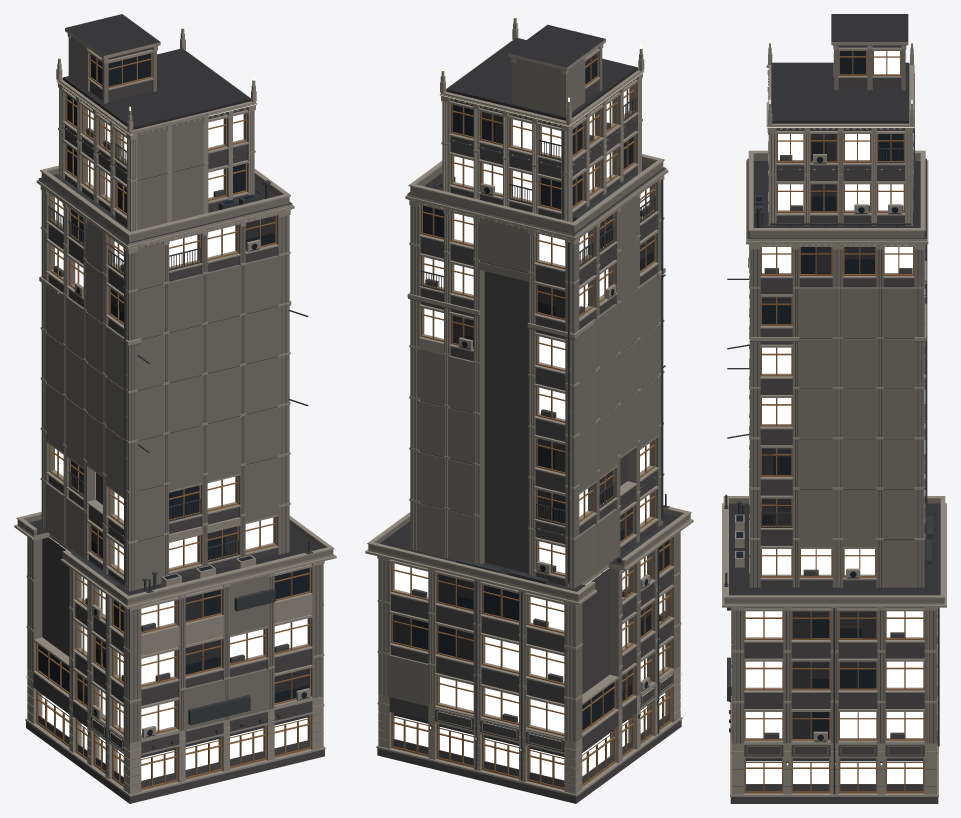
File: landmark219.glb
3 renders of one model, left to right at view 1: azimuth 30°, elevation 25°; view 2: azimuth 150°, elevation 25°; view 3: azimuth 270°, elevation 25°, orthographic.
Parts seen in each view (by area): view 1: l219-wall, l219-trim, l219-wall2, l219-roof, l219-frame, l219-steel, l219-dark, l219-room2, l219-shop, l219-room0, l219-room1; view 2: l219-wall, l219-wall2, l219-trim, l219-frame, l219-roof, l219-steel, l219-dark, l219-room0, l219-room2, l219-shop, l219-room1; view 3: l219-wall, l219-trim, l219-roof, l219-wall2, l219-frame, l219-room1, l219-dark, l219-room2, l219-steel, l219-shop, l219-room0.
Part boxes in pixels (x1,y1,x2,y2): l219-wall: [17, 36, 333, 743]; l219-trim: [14, 28, 336, 796]; l219-wall2: [26, 46, 324, 803]; l219-roof: [29, 14, 321, 695]; l219-frame: [36, 52, 310, 790]; l219-steel: [38, 127, 312, 777]; l219-dark: [38, 53, 309, 737]; l219-room2: [75, 119, 273, 715]; l219-shop: [42, 695, 307, 780]; l219-room0: [55, 122, 263, 734]; l219-room1: [88, 110, 307, 676]; l219-wall: [368, 47, 690, 742]; l219-wall2: [377, 48, 681, 803]; l219-trim: [365, 17, 693, 796]; l219-frame: [391, 52, 671, 789]; l219-roof: [379, 24, 678, 691]; l219-steel: [393, 97, 669, 780]; l219-dark: [412, 61, 669, 730]; l219-room0: [394, 101, 665, 732]; l219-room2: [424, 88, 646, 680]; l219-shop: [394, 693, 665, 780]; l219-room1: [454, 114, 665, 721]; l219-wall: [724, 49, 944, 743]; l219-trim: [722, 42, 946, 796]; l219-roof: [729, 14, 940, 738]; l219-wall2: [730, 45, 938, 803]; l219-frame: [735, 50, 933, 793]; l219-room1: [745, 51, 912, 737]; l219-dark: [736, 51, 903, 741]; l219-room2: [762, 184, 923, 737]; l219-steel: [724, 73, 939, 794]; l219-shop: [746, 761, 922, 783]; l219-room0: [801, 184, 903, 574].
Size of the model in its own units: 13.56 by 43.54 by 12.56.
